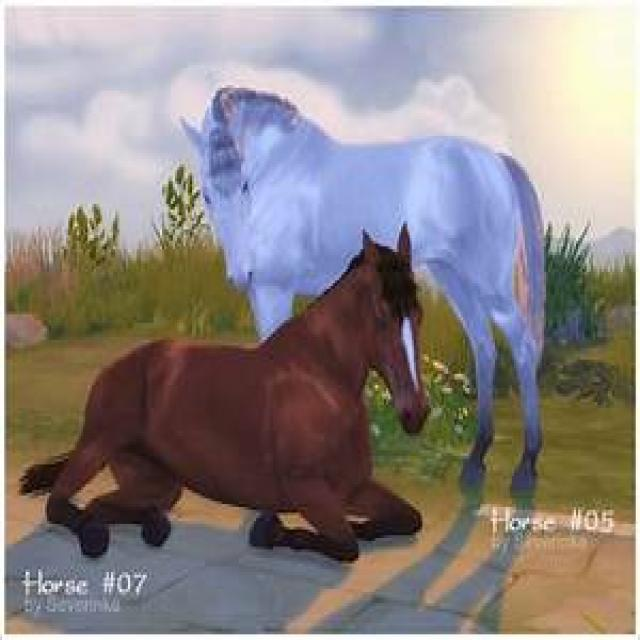animal: (177, 82, 546, 501), (17, 218, 431, 560)
